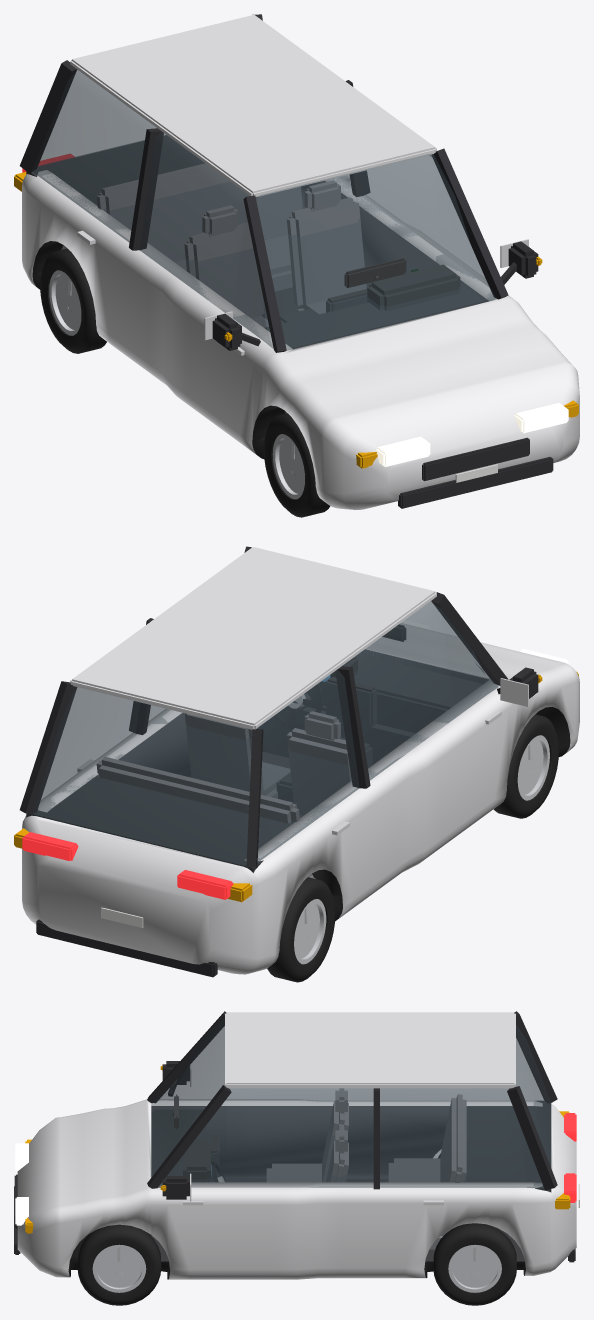
Rendered from van.glb.
The picture shows the model from 3 angles, top to bottom: view 1: azimuth 30°, elevation 25°; view 2: azimuth 150°, elevation 25°; view 3: azimuth 270°, elevation 25°; orthographic projection. The views are drawn at different scales.
Parts seen in each view (by area): view 1: Body, Glass, Roof, Int_Seats, Pillars, Int_Dash, Trim, Wheel_RR, Wheel_FR, Head_R, Head_L; view 2: Body, Glass, Roof, Int_Seats, Int_Dash, Pillars, Wheel_RR, Wheel_FR, Trim, Tail_R, Tail_L, MirrorGlass_R (+1 smaller); view 3: Body, Glass, Roof, Int_Seats, Pillars, Wheel_RL, Wheel_FL, Int_Dash, Trim, Int_Carpet.
Part boxes in pixels (left/top/right/bottom): Body: left=22, top=170, right=579, bottom=509; Glass: left=26, top=70, right=496, bottom=350; Roof: left=70, top=15, right=436, bottom=197; Int_Seats: left=26, top=135, right=366, bottom=327; Pillars: left=19, top=14, right=508, bottom=352; Int_Dash: left=265, top=258, right=484, bottom=413; Trim: left=77, top=175, right=553, bottom=508; Wheel_RR: left=40, top=248, right=106, bottom=353; Wheel_FR: left=263, top=413, right=330, bottom=517; Head_R: left=375, top=436, right=430, bottom=466; Head_L: left=514, top=403, right=568, bottom=433; Body: left=22, top=623, right=579, bottom=974; Glass: left=27, top=601, right=498, bottom=872; Roof: left=70, top=547, right=436, bottom=729; Int_Seats: left=26, top=711, right=351, bottom=878; Int_Dash: left=257, top=624, right=482, bottom=803; Pillars: left=19, top=546, right=508, bottom=867; Wheel_RR: left=267, top=877, right=335, bottom=982; Wheel_FR: left=493, top=714, right=558, bottom=818; Trim: left=36, top=667, right=538, bottom=977; Tail_R: left=177, top=870, right=233, bottom=899; Tail_L: left=22, top=832, right=78, bottom=860; MirrorGlass_R: left=500, top=678, right=528, bottom=706; Body: left=17, top=1099, right=576, bottom=1279; Glass: left=151, top=1018, right=551, bottom=1191; Roof: left=225, top=1012, right=515, bottom=1088; Int_Seats: left=267, top=1088, right=551, bottom=1249; Pillars: left=147, top=1011, right=557, bottom=1189; Wheel_RL: left=433, top=1223, right=516, bottom=1305; Wheel_FL: left=77, top=1224, right=161, bottom=1305; Int_Dash: left=151, top=1094, right=219, bottom=1181; Trim: left=14, top=1061, right=579, bottom=1262; Int_Carpet: left=151, top=1179, right=524, bottom=1261.
Size of the model in its own units: 2.34 by 1.84 by 4.46.
